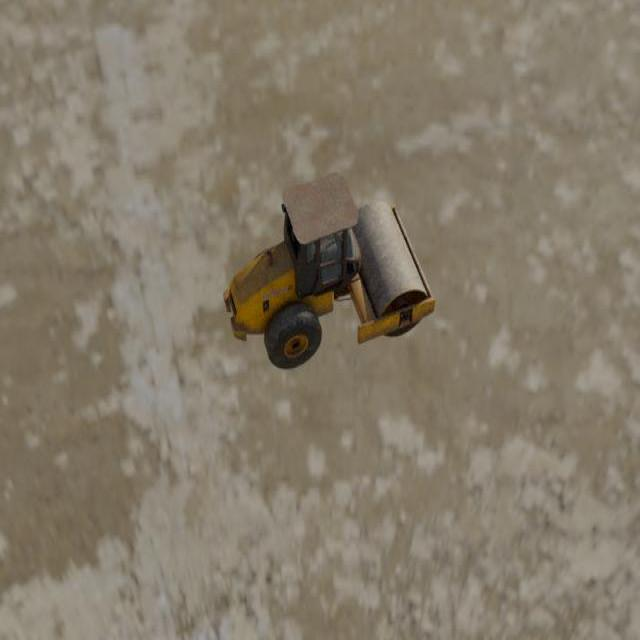Roller: (222, 171, 435, 369)
